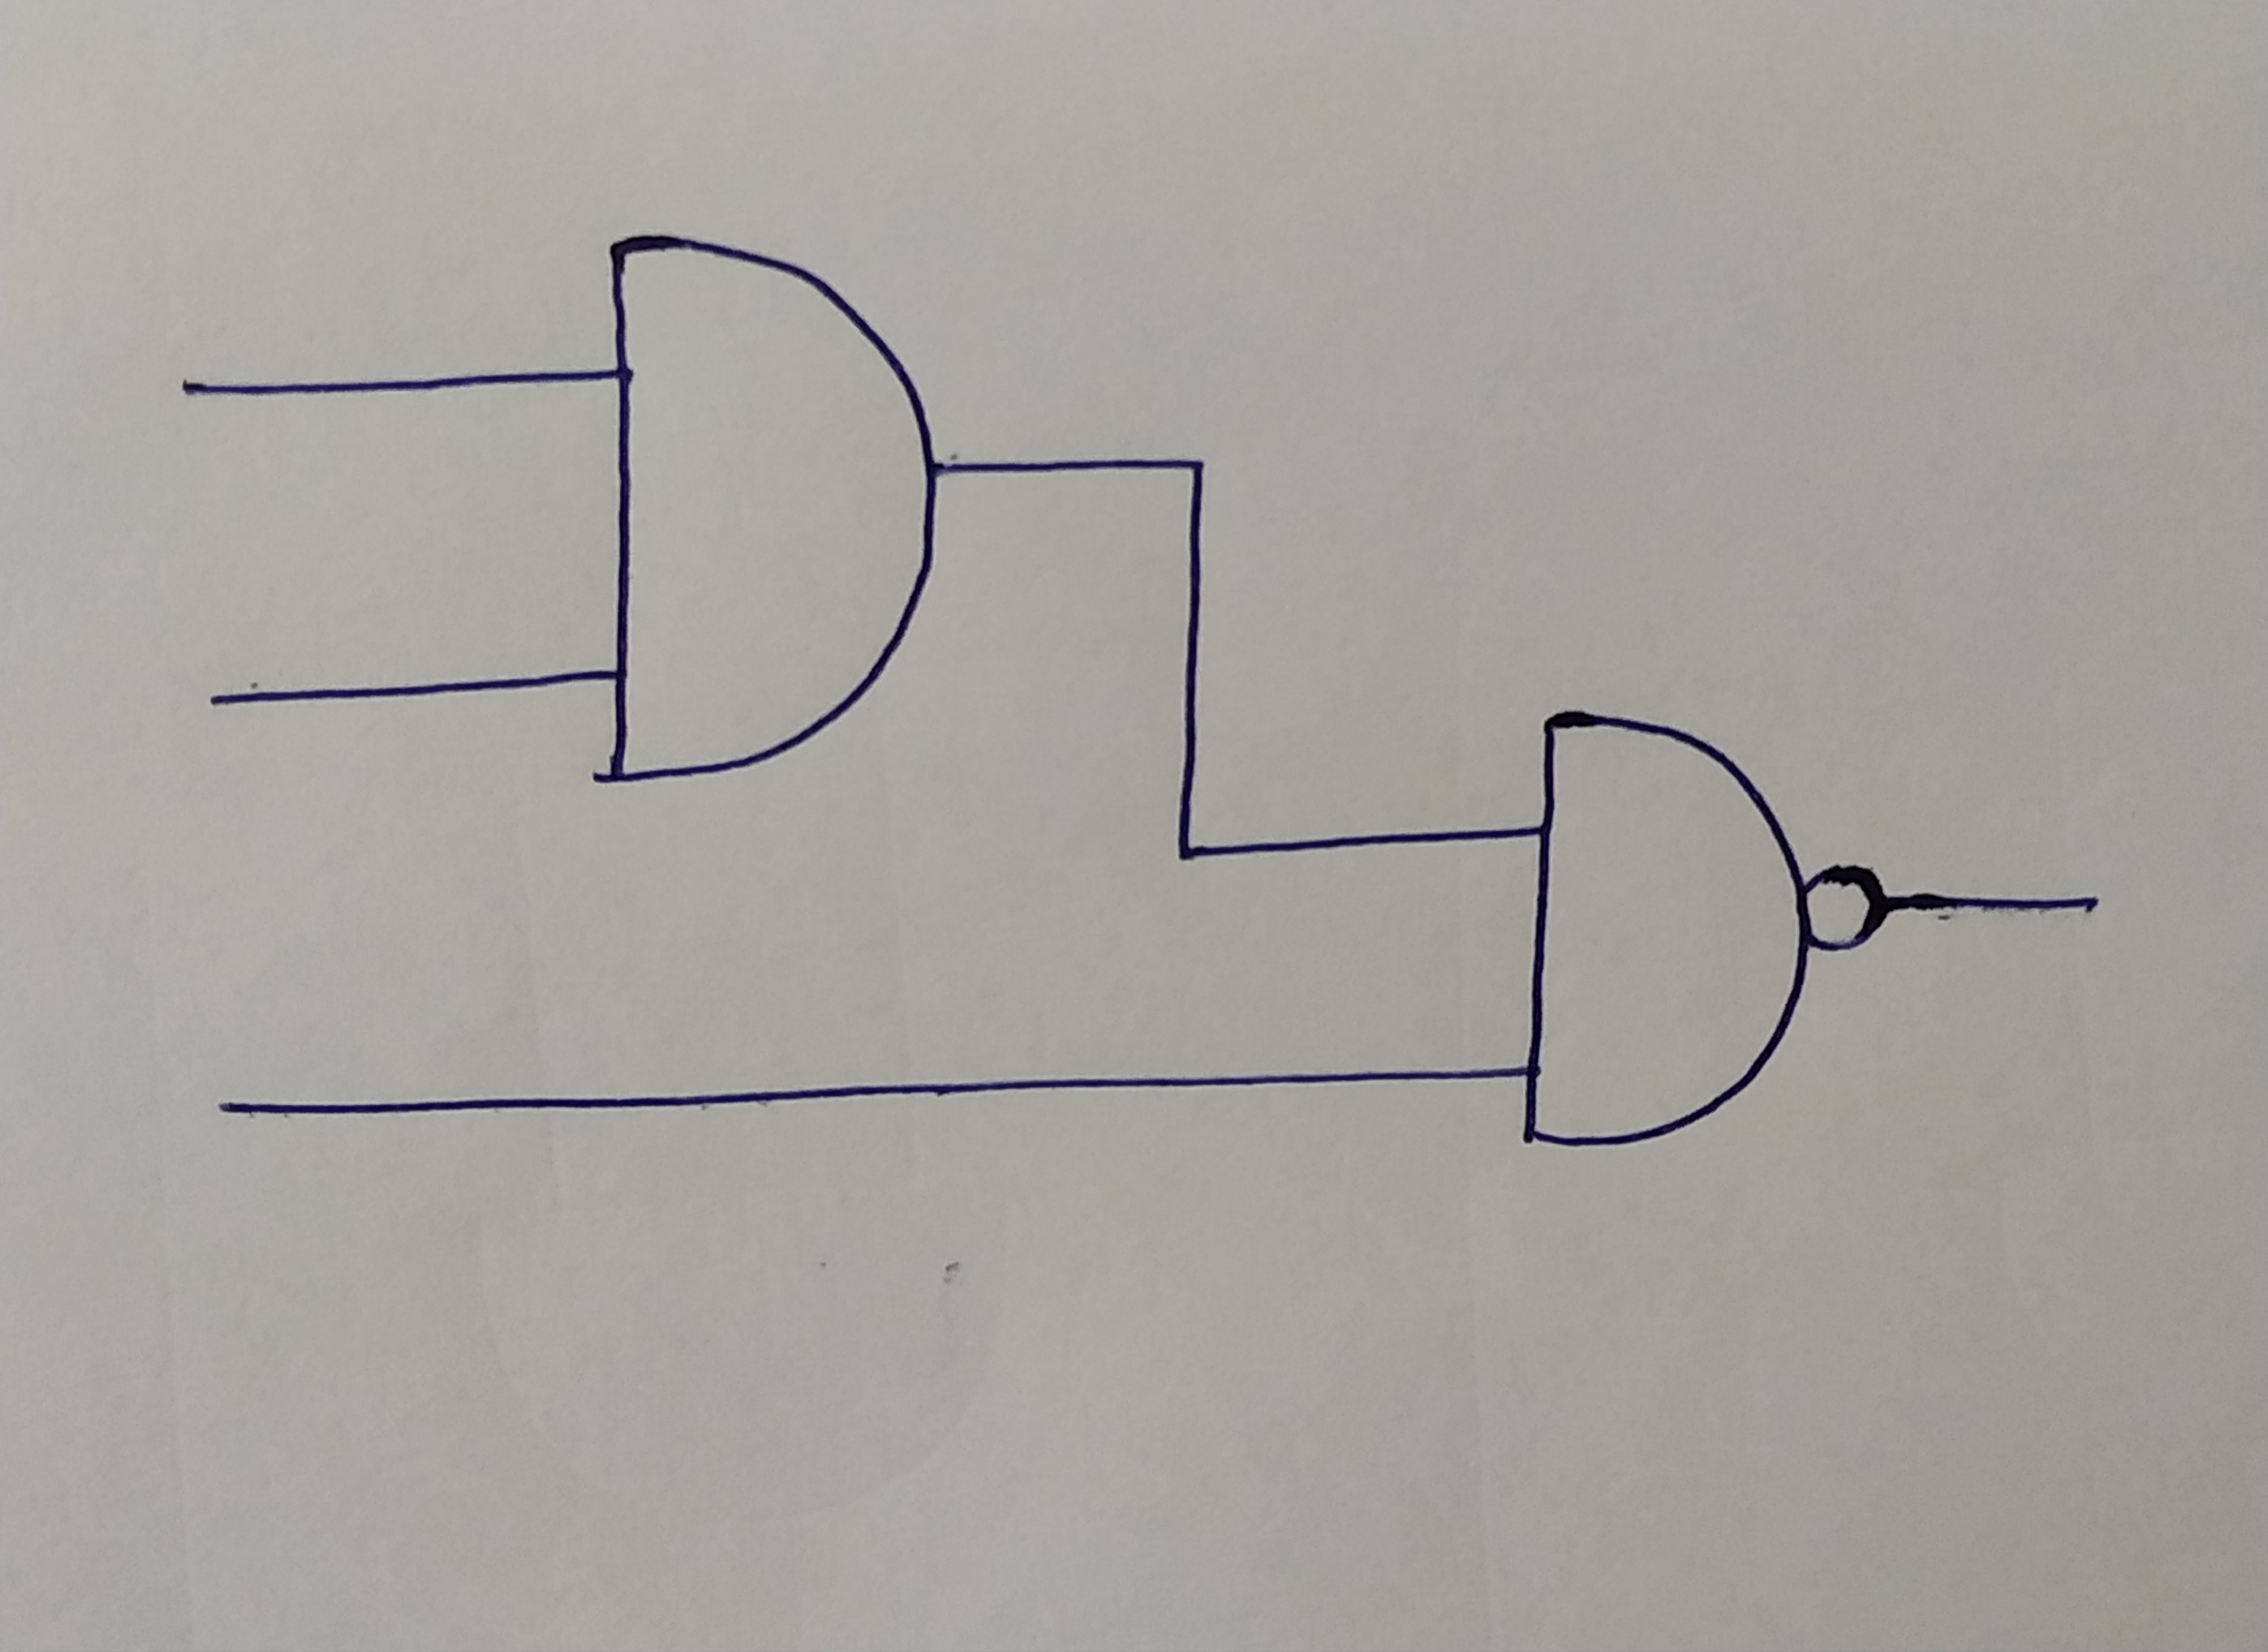and: (613, 232, 937, 782), (1528, 712, 1801, 1150)
not: (1805, 870, 1884, 958)
